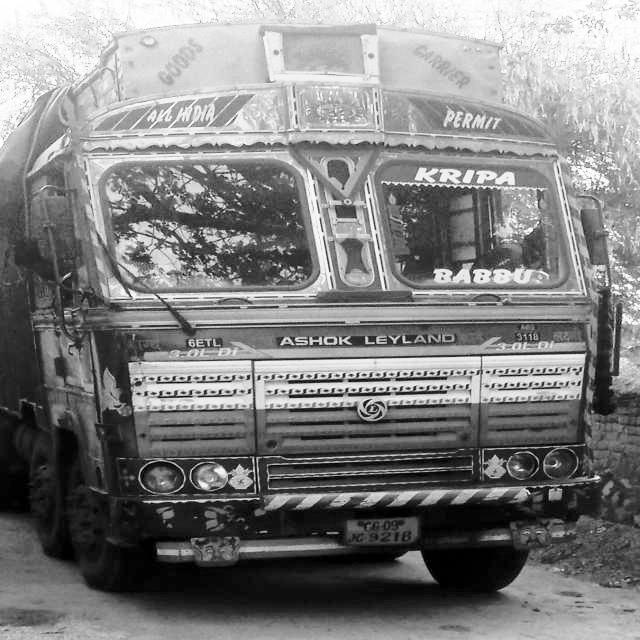HCV: (50, 29, 610, 625)
